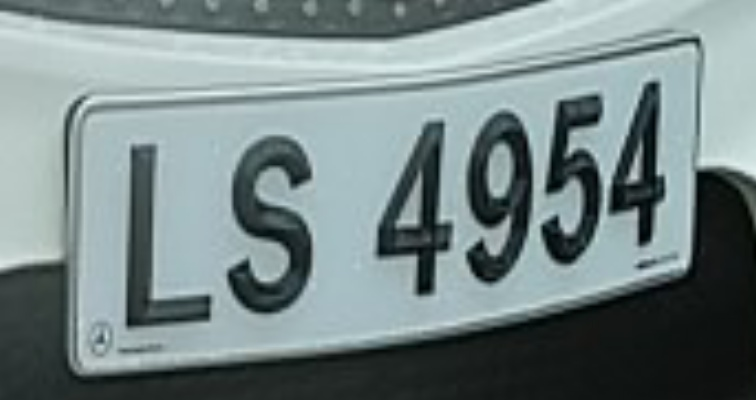4: (361, 100, 468, 311), (603, 73, 673, 256)
5: (535, 89, 611, 274)
9: (456, 96, 543, 291)
L: (107, 120, 227, 339)
S: (213, 114, 334, 339)
